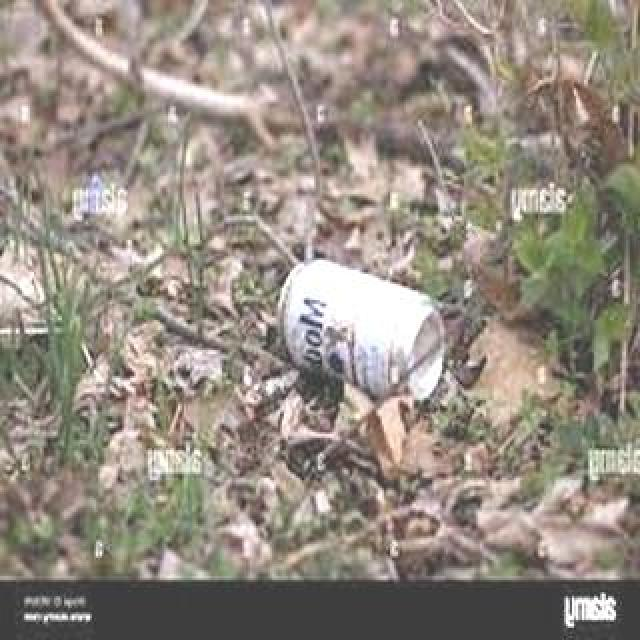Can: (261, 248, 453, 416)
